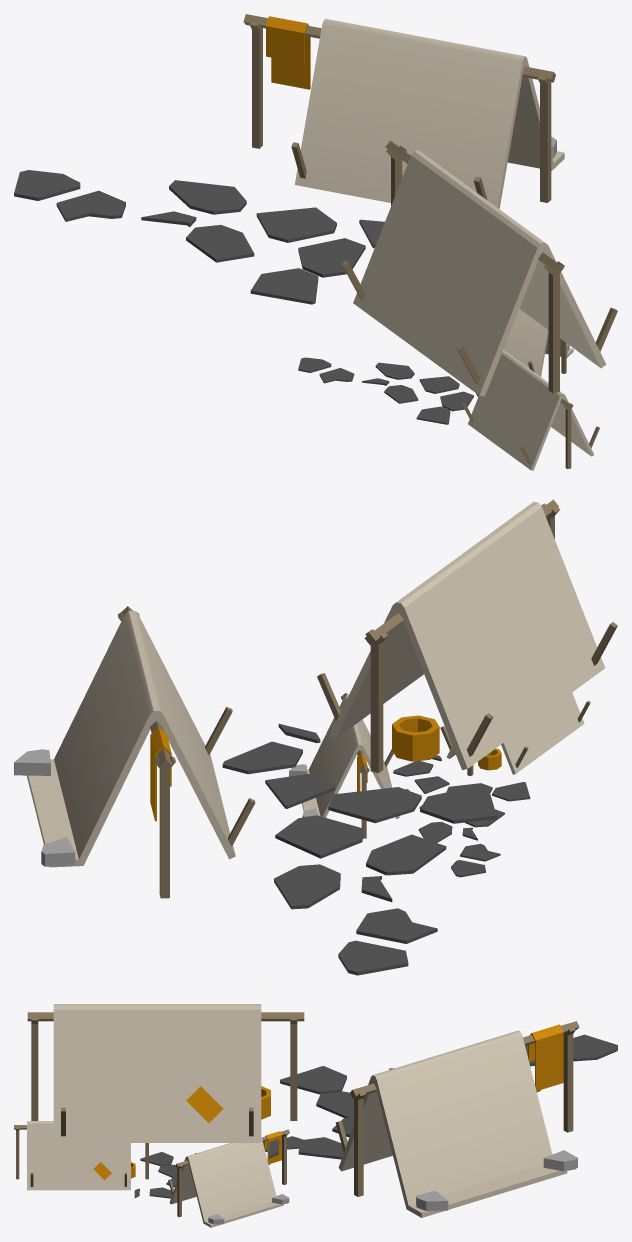
The model's file is Tents.glb.
3 renders of one model, top to bottom at view 1: azimuth 30°, elevation 25°; view 2: azimuth 150°, elevation 25°; view 3: azimuth 270°, elevation 25°, orthographic. The views are drawn at different scales.
Parts seen in each view (by area): view 1: Tent (×2), Tent.002 (×2), Tent.001 (×2), Cobblestone.007, Cobblestone.003, Cobblestone.010, Cobblestone.009, Cobblestone.008, Cloth, Poles.007, Cobblestone.004, Poles.003 (+5 smaller); view 2: Tent.002 (×2), Tent (×2), Tent.001, Cobblestone.007, Cobblestone.010, Cobblestone.003, Cobblestone.009, Cobblestone.008, Dish, Poles.005, Cobblestone.005, Cobblestone.004 (+7 smaller); view 3: Tent.001 (×2), Tent (×2), Cloth.001, Tent.003, Cobblestone.009, Poles.001, Poles.003, Cobblestone.004, Poles.005, Poles.007, Cobblestone.001, Cobblestone.010 (+5 smaller).
Boxes of the visible parts, <box> form: Tent (×2): <box>294,18,573,376</box>; Tent.002 (×2): <box>353,155,562,470</box>; Tent.001 (×2): <box>519,245,606,456</box>; Cobblestone.007: <box>256,207,336,242</box>; Cobblestone.003: <box>169,180,246,214</box>; Cobblestone.010: <box>298,238,365,277</box>; Cobblestone.009: <box>250,268,318,304</box>; Cobblestone.008: <box>186,225,254,262</box>; Cloth: <box>266,16,307,63</box>; Poles.007: <box>544,261,564,393</box>; Cobblestone.004: <box>14,170,80,200</box>; Poles.003: <box>538,75,551,202</box>; Tent.002 (×2): <box>398,507,605,774</box>; Tent (×2): <box>27,610,399,867</box>; Tent.001: <box>329,605,423,738</box>; Cobblestone.007: <box>275,815,363,858</box>; Cobblestone.010: <box>328,787,421,823</box>; Cobblestone.003: <box>274,864,340,909</box>; Cobblestone.009: <box>420,784,496,823</box>; Cobblestone.008: <box>366,834,446,875</box>; Dish: <box>392,715,439,761</box>; Poles.005: <box>365,629,388,773</box>; Cobblestone.005: <box>356,908,437,943</box>; Cobblestone.004: <box>338,940,408,975</box>; Tent.001 (×2): <box>27,1009,261,1190</box>; Tent (×2): <box>169,1030,567,1227</box>; Cloth.001: <box>532,1025,563,1090</box>; Tent.003: <box>53,1004,261,1009</box>; Cobblestone.009: <box>280,1066,346,1094</box>; Poles.001: <box>562,1023,575,1132</box>; Poles.003: <box>351,1089,365,1196</box>; Cobblestone.004: <box>573,1034,617,1061</box>; Poles.005: <box>290,1017,297,1120</box>; Poles.007: <box>31,1017,38,1120</box>; Cobblestone.001: <box>298,1137,343,1159</box>; Cobblestone.010: <box>316,1091,353,1118</box>.
Bounding box in the file's own units: 59.29 × 26.3 × 83.59.
